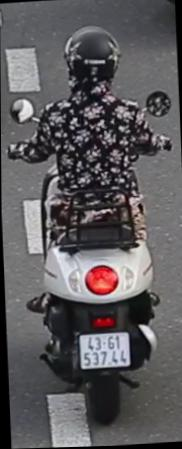LP: (76, 326, 133, 372)
helmet: (60, 21, 123, 99)
